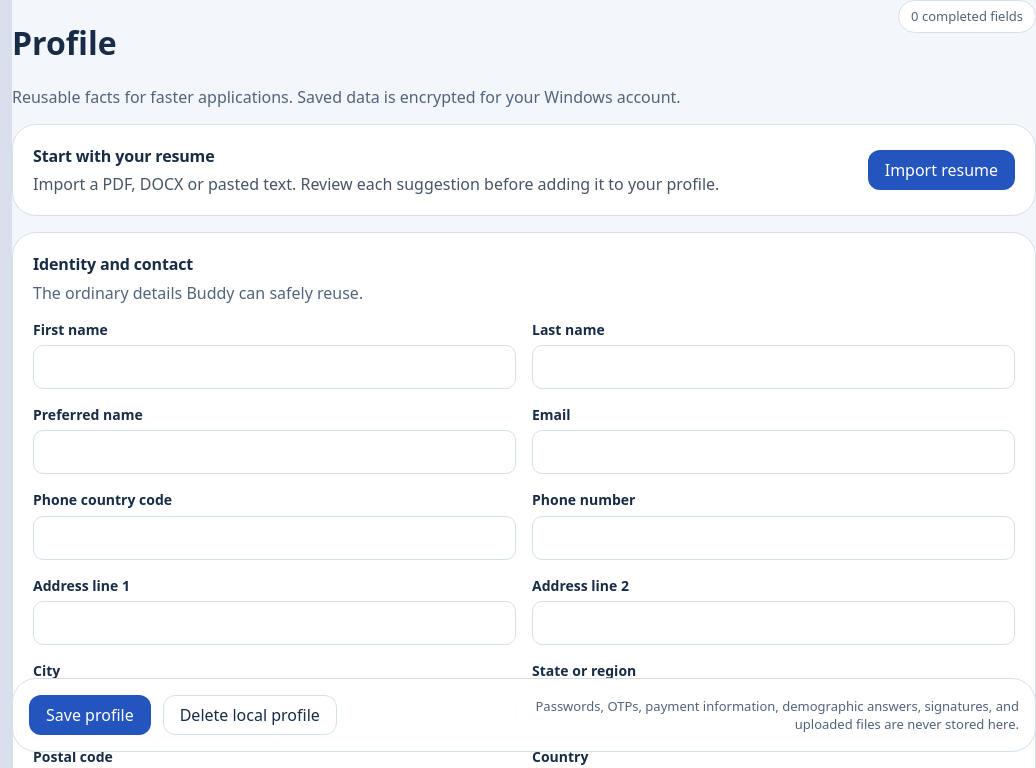
Scenario: ProfilePage › shows save results beside Save and clears stale success when editing
The image size is (1036, 768).
Type "Alex" into the field labelled "First name" at (274, 367), box [33, 345, 516, 389]
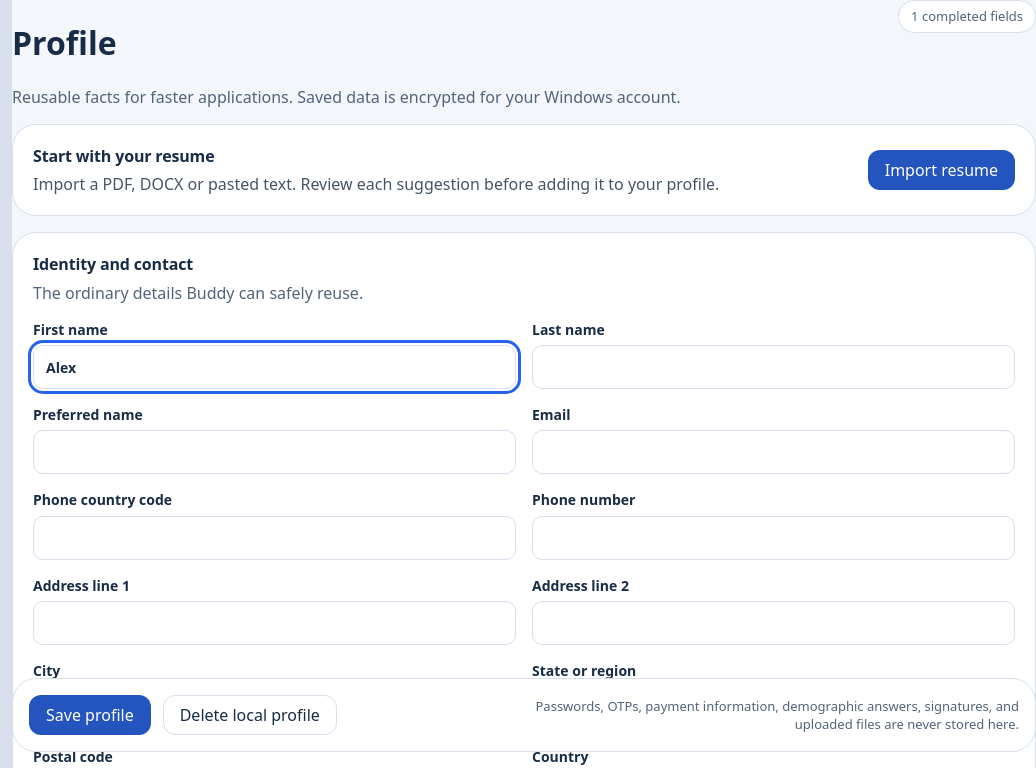
Click the button "Save profile" at (90, 715), box [29, 695, 151, 735]
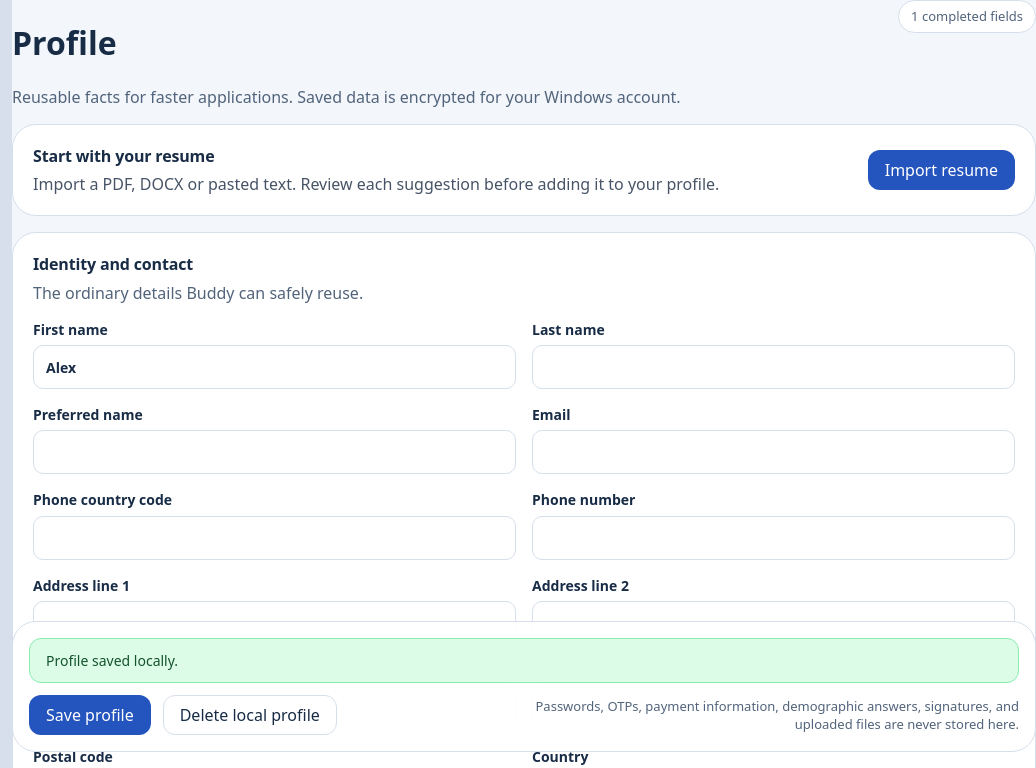
Expected: the message reads "Profile saved locally.", [46, 651, 178, 670]
Type "a" into the field labelled "First name" at (274, 367), box [33, 345, 516, 389]
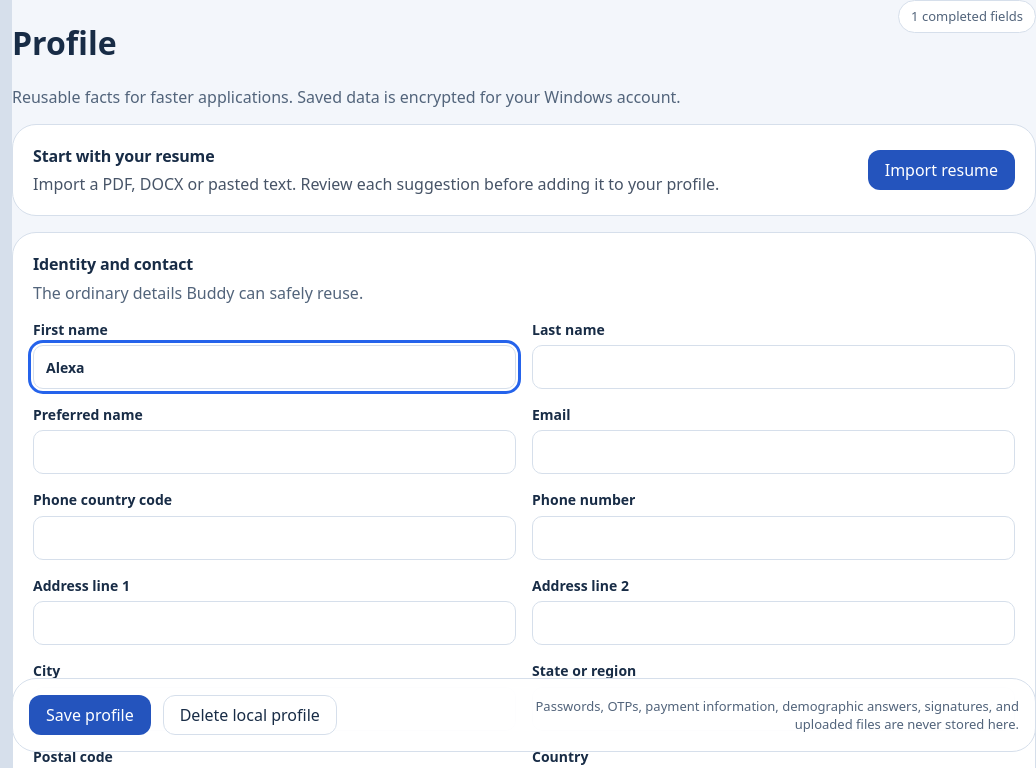
Expected: the text "Profile saved locally." is gone
